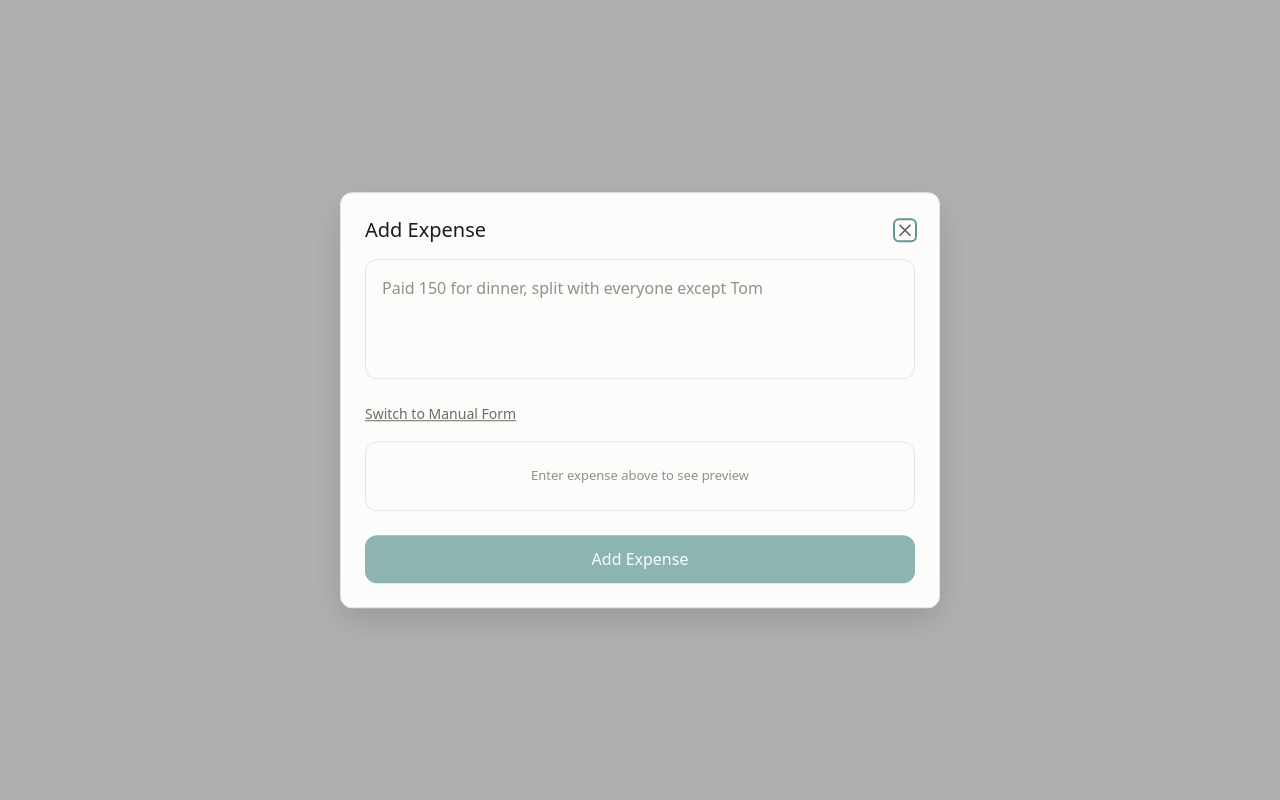
Test: SmartInputModal › AI Parse Flow › shows the server's mediator-voice message when the parse fails
This screenshot has width=1280, height=800.
In the text box with placeholder "Paid 150 for dinner, split with everyone except Tom": (640, 319) top-left (365, 259), bottom-right (915, 379), type "Paid 60 for lunch"
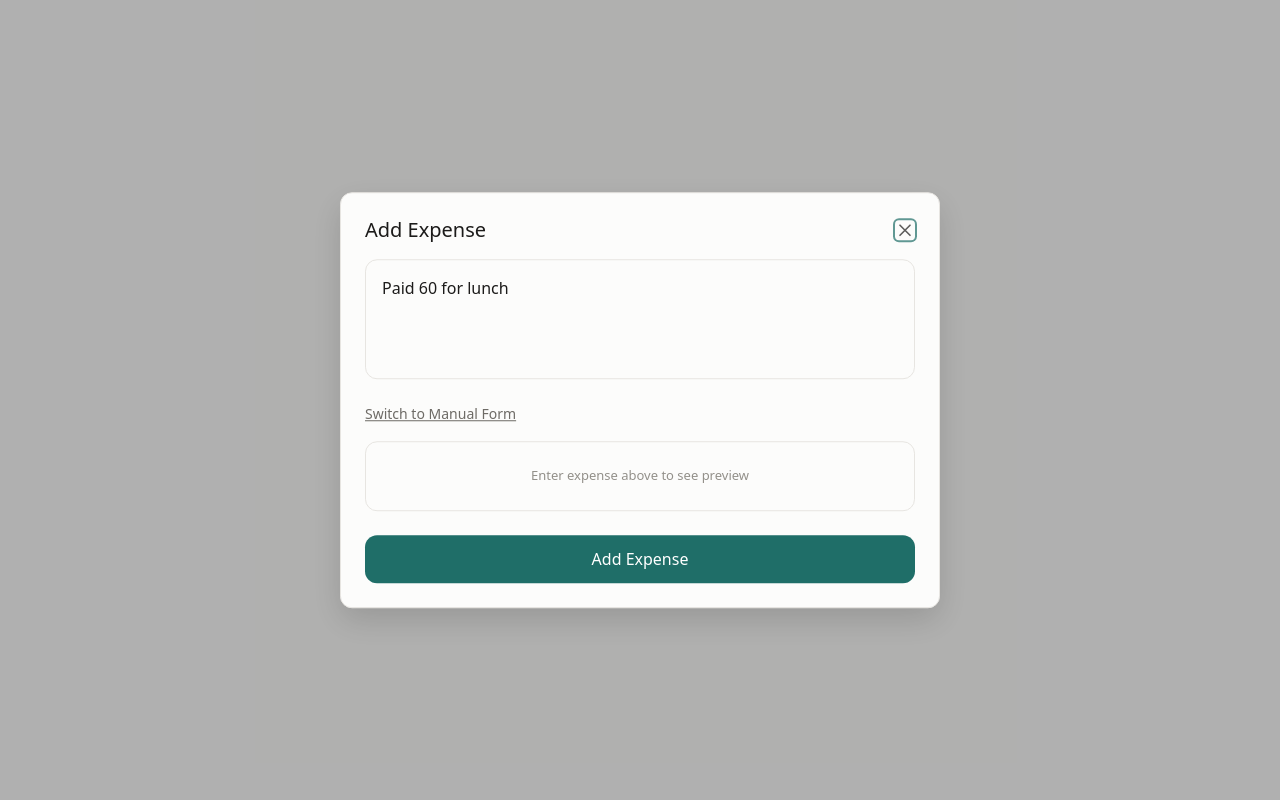
Click the button "Add Expense": (640, 559) top-left (365, 535), bottom-right (915, 583)
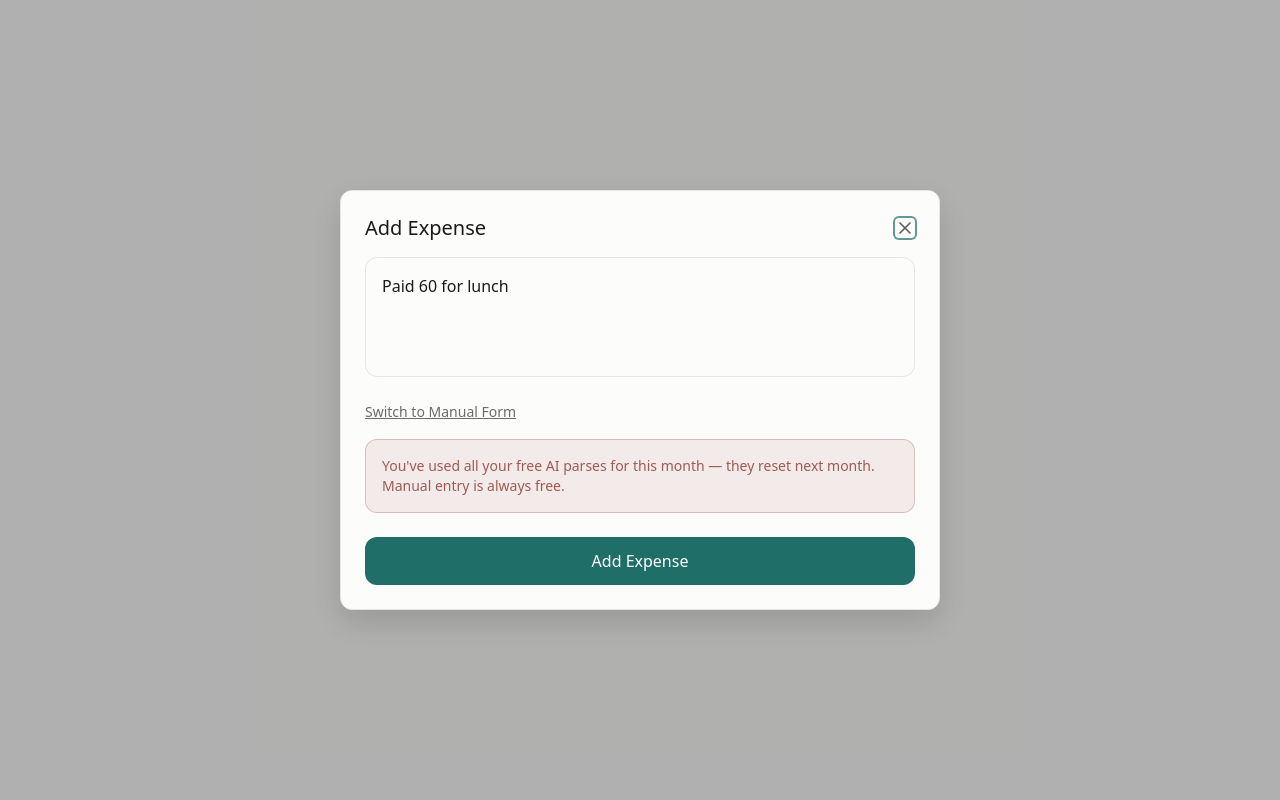
Expected: the message shows "free AI parses", top-left (382, 456), bottom-right (875, 495)
